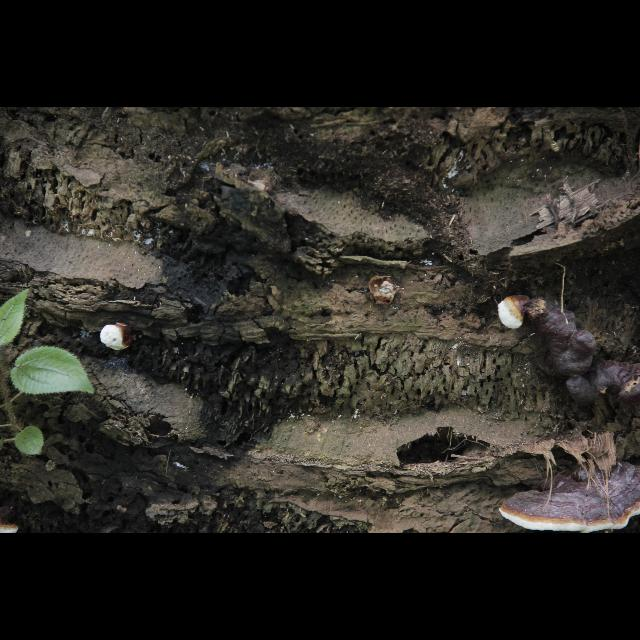ganoderma: (529, 298, 640, 412), (500, 462, 640, 535)
primordium: (498, 296, 528, 331), (101, 324, 136, 353)
